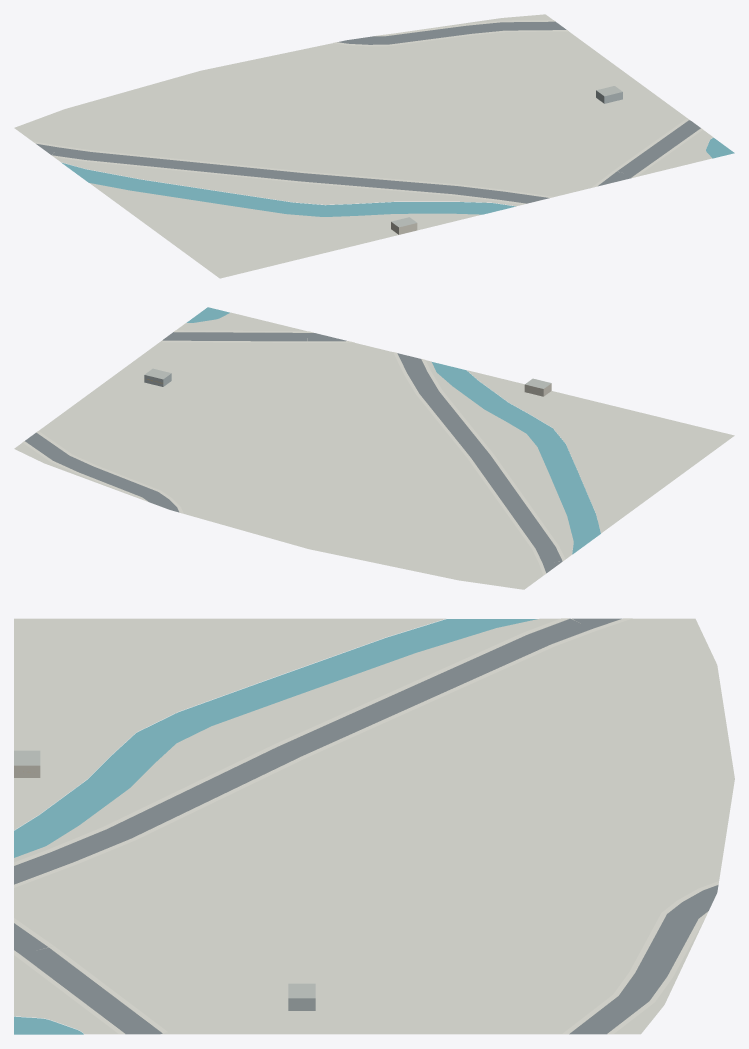
The picture shows the model from 3 angles, top to bottom: view 1: azimuth 30°, elevation 25°; view 2: azimuth 150°, elevation 25°; view 3: azimuth 270°, elevation 25°; orthographic projection. The views are drawn at different scales.
Visible parts, largest first — view 1: city; view 2: city; view 3: city.
Boxes of the visible parts, bbox=[...] form: city: bbox=[14, 14, 734, 278]; city: bbox=[14, 307, 734, 589]; city: bbox=[14, 618, 734, 1034].
Bounding box in the file's own units: 500 × 7.18 × 366.
